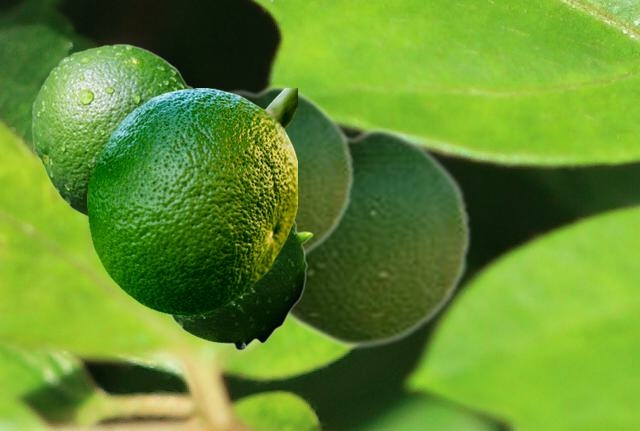dalandan: (87, 88, 296, 314), (287, 124, 471, 350), (31, 43, 193, 218), (222, 82, 354, 256), (169, 220, 312, 350)
